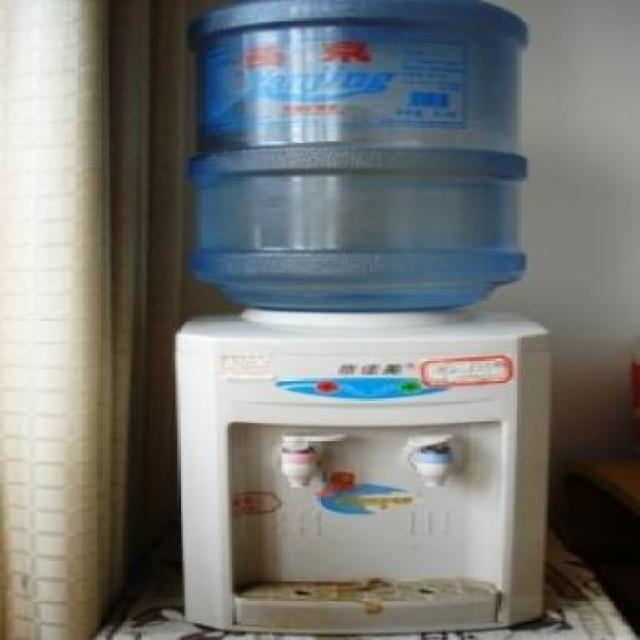coolerbottle: (172, 0, 543, 320)
